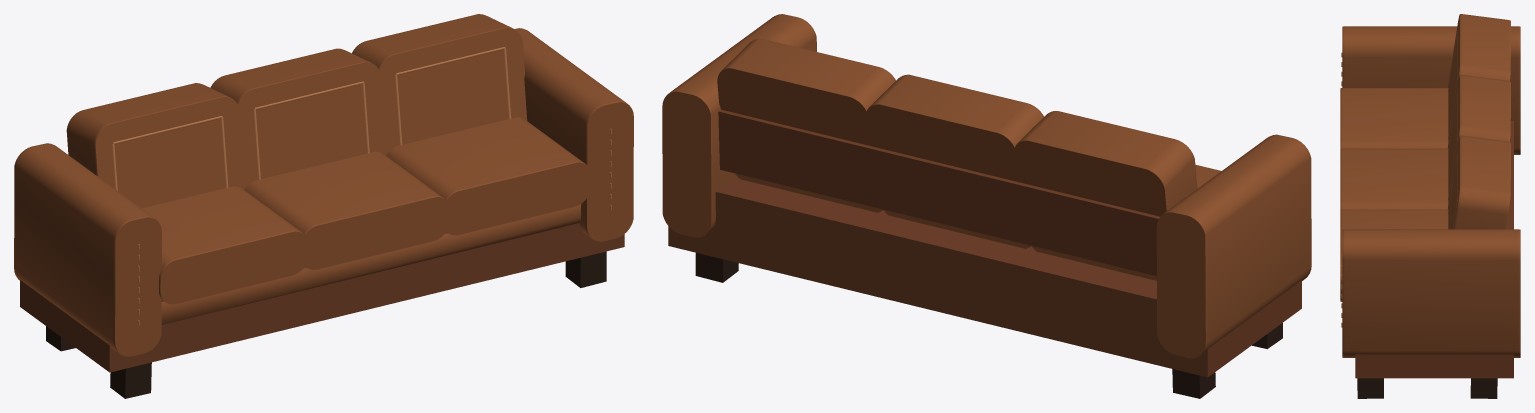
File: cognac-leather-sofa-bevelSize-min.glb
3 views of the same model, side by side, from view 1: azimuth 30°, elevation 25°; view 2: azimuth 150°, elevation 25°; view 3: azimuth 270°, elevation 25° (orthographic). The views are drawn at different scales.
Visible parts, largest first — view 1: sofa-part-28, sofa-part-4, back-cushion-3-part-0, back-cushion-1-part-0, back-cushion-2-part-0, seat-cushion-1-part-0, seat-cushion-2-part-0, seat-cushion-3-part-0, sofa-part-7, sofa-part-5, sofa-part-0, sofa-part-2; view 2: sofa-part-4, sofa-part-6, sofa-part-28, back-cushion-3-part-0, back-cushion-1-part-0, back-cushion-2-part-0, sofa-part-7, seat-cushion-3-part-0, sofa-part-3, sofa-part-1, seat-cushion-2-part-0, seat-cushion-1-part-0; view 3: sofa-part-7, sofa-part-28, seat-cushion-2-part-0, seat-cushion-3-part-0, back-cushion-1-part-0, sofa-part-4, back-cushion-3-part-0, back-cushion-2-part-0, seat-cushion-1-part-0, sofa-part-1, sofa-part-0.
Boxes of the visible parts, bbox=[...] form: sofa-part-28: bbox=[14, 143, 161, 356]; sofa-part-4: bbox=[20, 223, 624, 372]; back-cushion-3-part-0: bbox=[66, 83, 244, 208]; back-cushion-1-part-0: bbox=[352, 14, 527, 155]; back-cushion-2-part-0: bbox=[210, 48, 383, 189]; seat-cushion-1-part-0: bbox=[386, 117, 590, 235]; seat-cushion-2-part-0: bbox=[244, 151, 446, 269]; seat-cushion-3-part-0: bbox=[141, 186, 307, 304]; sofa-part-7: bbox=[514, 28, 633, 241]; sofa-part-5: bbox=[161, 204, 581, 324]; sofa-part-0: bbox=[565, 251, 606, 287]; sofa-part-2: bbox=[110, 362, 151, 398]; sofa-part-4: bbox=[668, 176, 1301, 377]; sofa-part-6: bbox=[718, 109, 1159, 276]; sofa-part-28: bbox=[1156, 134, 1311, 358]; back-cushion-3-part-0: bbox=[1013, 111, 1197, 216]; back-cushion-1-part-0: bbox=[717, 38, 895, 145]; back-cushion-2-part-0: bbox=[866, 74, 1043, 181]; sofa-part-7: bbox=[662, 14, 816, 237]; seat-cushion-3-part-0: bbox=[1032, 164, 1221, 280]; sofa-part-3: bbox=[1172, 369, 1215, 398]; sofa-part-1: bbox=[695, 253, 738, 282]; seat-cushion-2-part-0: bbox=[883, 209, 1030, 248]; seat-cushion-1-part-0: bbox=[735, 173, 882, 212]; sofa-part-7: bbox=[1342, 229, 1520, 357]; sofa-part-28: bbox=[1342, 26, 1520, 154]; seat-cushion-2-part-0: bbox=[1340, 148, 1448, 209]; seat-cushion-3-part-0: bbox=[1340, 88, 1448, 148]; back-cushion-1-part-0: bbox=[1448, 135, 1510, 229]; sofa-part-4: bbox=[1355, 121, 1513, 378]; back-cushion-3-part-0: bbox=[1447, 14, 1510, 148]; back-cushion-2-part-0: bbox=[1447, 75, 1510, 209]; seat-cushion-1-part-0: bbox=[1340, 209, 1448, 301]; sofa-part-1: bbox=[1470, 378, 1497, 398]; sofa-part-0: bbox=[1357, 378, 1383, 398].
Size of the model in its own units: 2.6 by 1.06 by 0.886.
